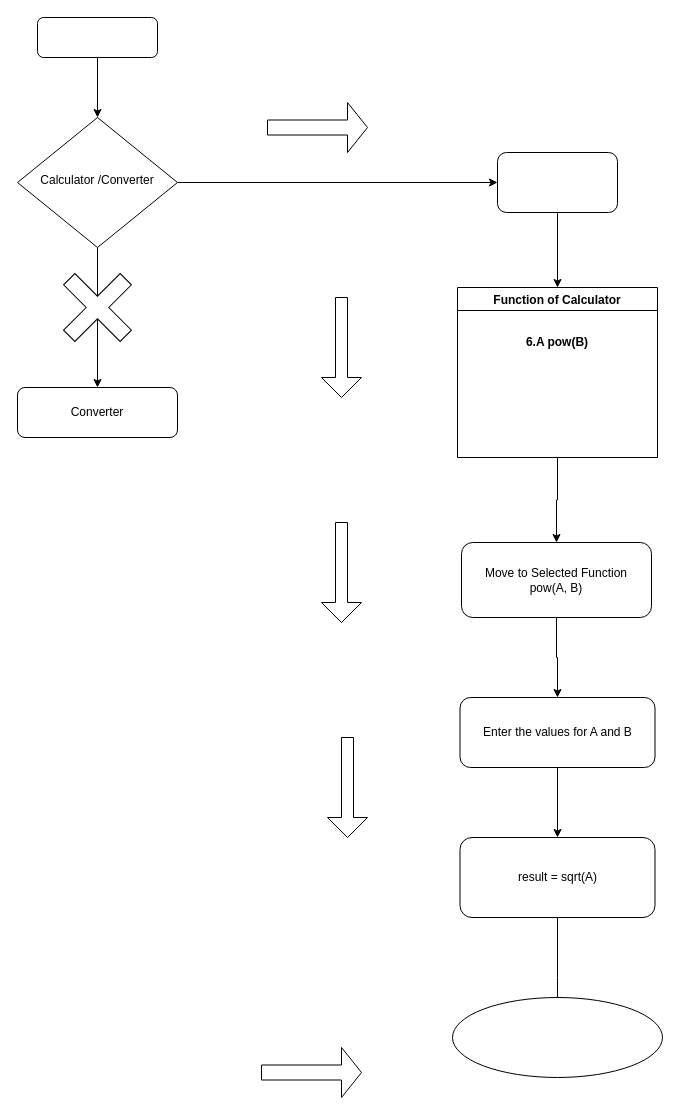
This 680x1115 diagram has some shape labels left out. Here are the shapes that lost their labels. From the top down, the centre of each, then its label:
At (x=97, y=37): "User interface".
At (x=557, y=182): "Calculator".
At (x=557, y=1037): "Result for the user".
